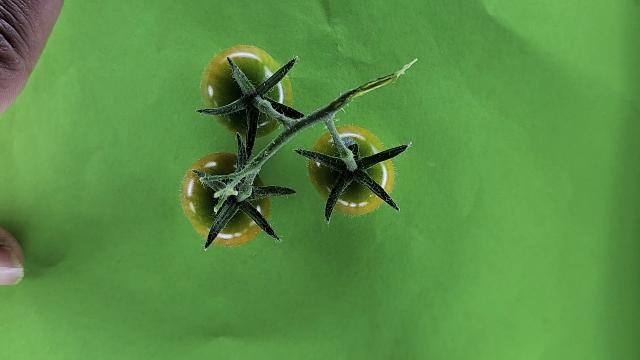Fully Grown: (200, 45, 293, 141), (181, 153, 272, 247), (307, 126, 395, 216)
